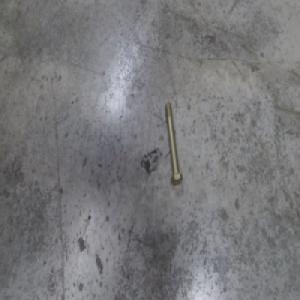Bolt: (165, 103, 184, 187)
